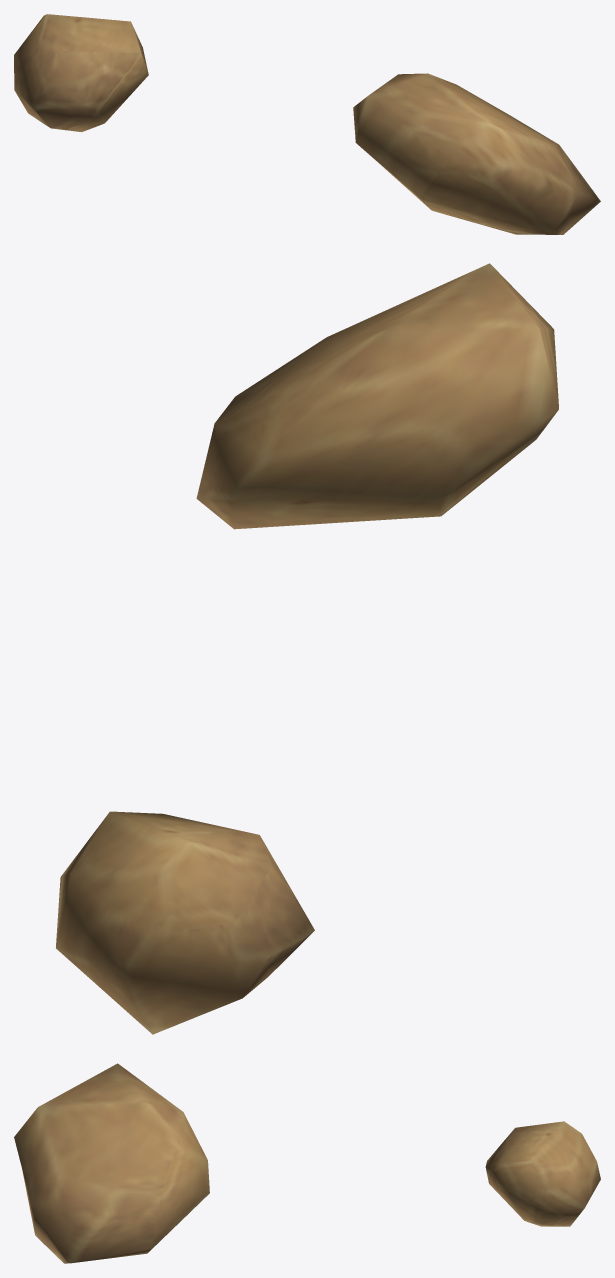
Rendered from Rock03.FBX.
3 renders of one model, top to bottom at view 1: azimuth 30°, elevation 25°; view 2: azimuth 150°, elevation 25°; view 3: azimuth 270°, elevation 25°, orthographic. The views are drawn at different scales.
Parts seen in each view (by area): view 1: Rock03; view 2: Rock03; view 3: Rock03.
Part boxes in pixels (<box>): Rock03: <box>14,14,600,234</box>; Rock03: <box>56,263,558,1034</box>; Rock03: <box>14,1063,600,1263</box>.
Size of the model in its own units: 892 by 589 by 1746.
